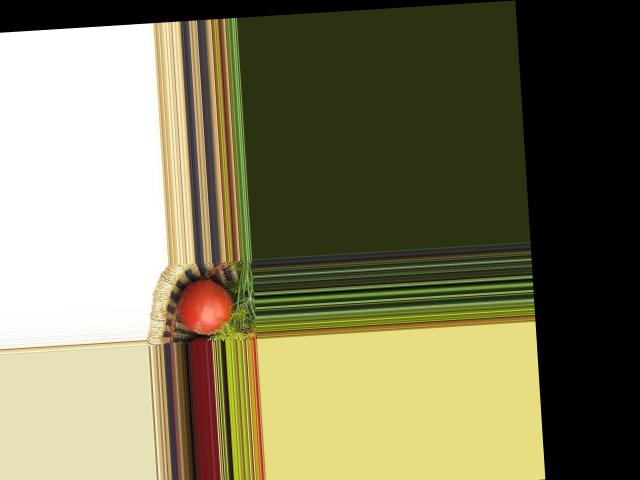tomato: (176, 278, 235, 335)
